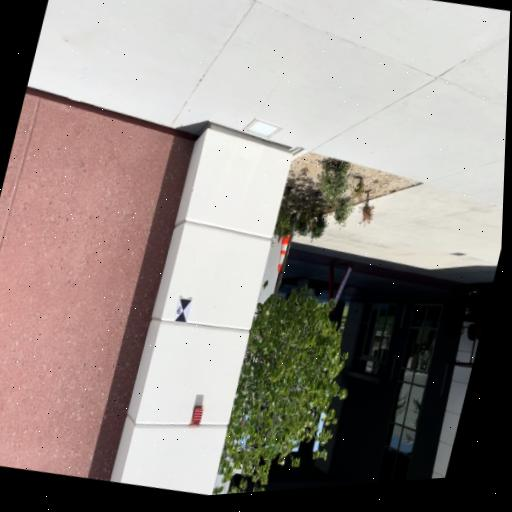target9: (174, 296, 192, 324)
